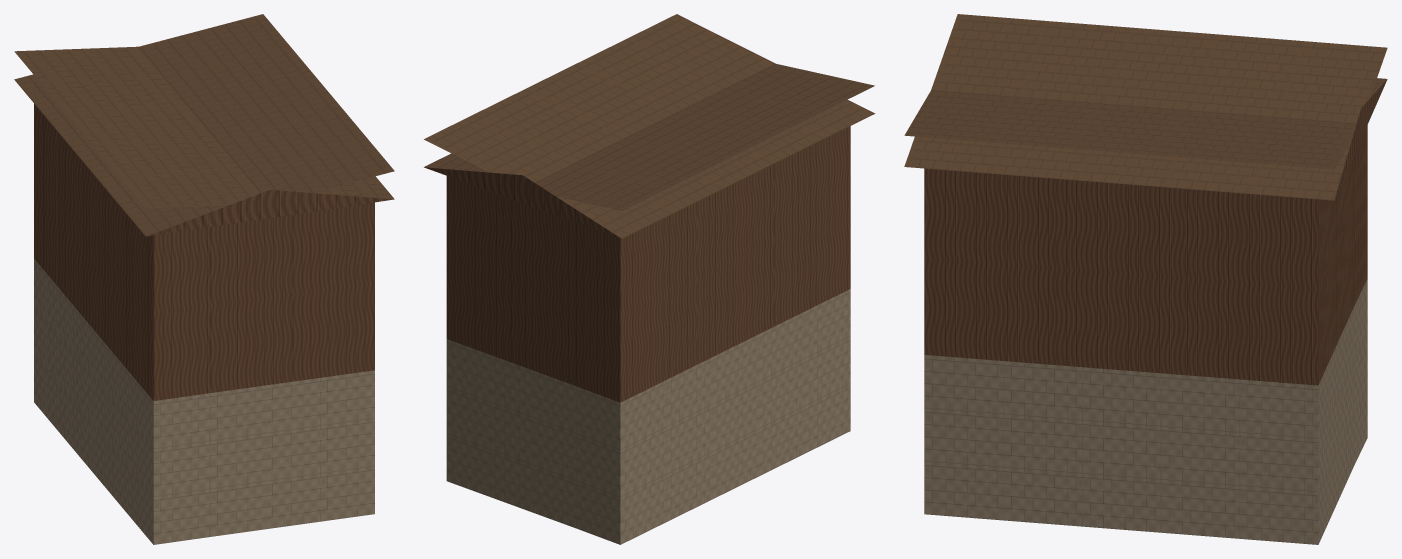
The model's file is bld_c31_44_255.gltf.
3 renders of one model, left to right at view 1: azimuth 30°, elevation 25°; view 2: azimuth 150°, elevation 25°; view 3: azimuth 270°, elevation 25°, orthographic. The views are drawn at different scales.
Parts seen in each view (by area): view 1: bld_c31_44_255; view 2: bld_c31_44_255; view 3: bld_c31_44_255.
Boxes of the visible parts, bbox=[...] form: bld_c31_44_255: bbox=[14, 14, 394, 544]; bld_c31_44_255: bbox=[424, 14, 875, 544]; bld_c31_44_255: bbox=[904, 14, 1387, 544].
Bounding box in the file's own units: 10.66 × 12.3 × 14.02.
Materials: 4 (4 with a texture image).
